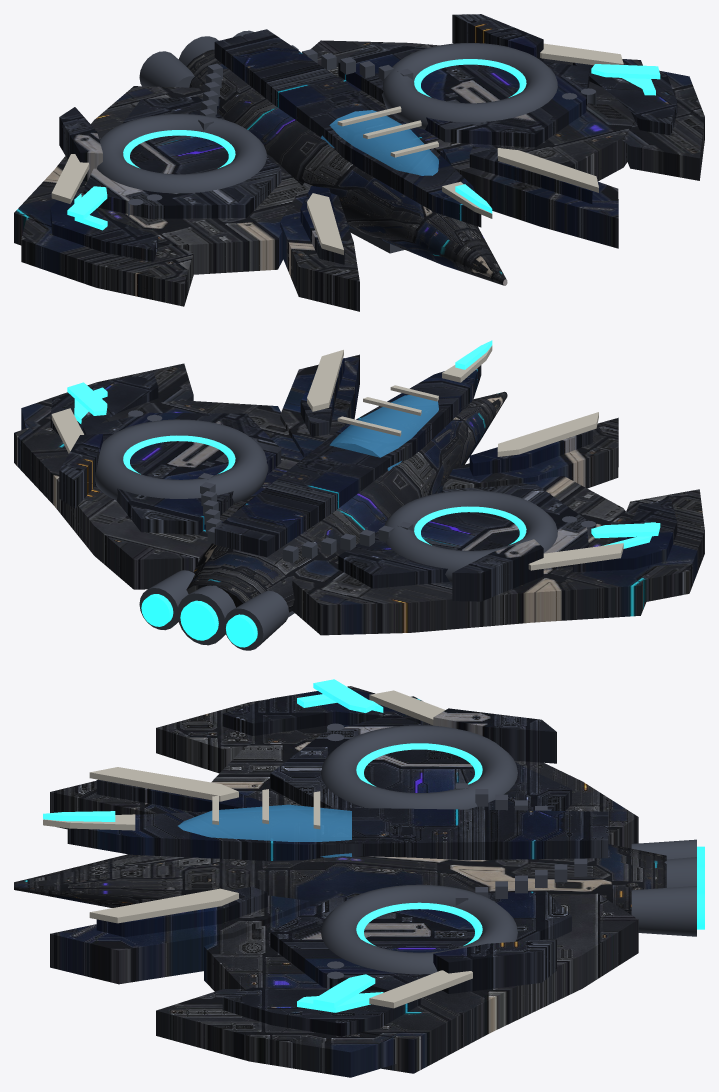
Rendered from aur-vanta-seraph.glb.
The picture shows the model from 3 angles, top to bottom: view 1: azimuth 30°, elevation 25°; view 2: azimuth 150°, elevation 25°; view 3: azimuth 270°, elevation 25°; orthographic projection. The views are drawn at different scales.
Visible parts, largest first — view 1: hull_primary, armor_secondary, mechanical_gunmetal, structure_ivory, accent_energy, canopy_glass; view 2: hull_primary, armor_secondary, mechanical_gunmetal, structure_ivory, accent_energy, canopy_glass, engine_glow; view 3: hull_primary, armor_secondary, mechanical_gunmetal, structure_ivory, accent_energy, canopy_glass, engine_glow.
Boxes of the visible parts, <box> form: hull_primary: <box>14,40,704,311</box>; armor_secondary: <box>50,14,677,264</box>; mechanical_gunmetal: <box>97,30,596,253</box>; structure_ivory: <box>51,43,623,254</box>; accent_energy: <box>67,59,660,230</box>; canopy_glass: <box>321,110,438,175</box>; hull_primary: <box>14,354,704,635</box>; armor_secondary: <box>50,358,677,601</box>; mechanical_gunmetal: <box>95,410,596,650</box>; structure_ivory: <box>51,345,623,570</box>; accent_energy: <box>67,340,660,548</box>; canopy_glass: <box>329,395,438,470</box>; engine_glow: <box>141,594,257,647</box>; hull_primary: <box>14,686,666,1077</box>; armor_secondary: <box>67,689,608,1036</box>; mechanical_gunmetal: <box>321,723,696,989</box>; structure_ivory: <box>43,690,472,1008</box>; accent_energy: <box>43,679,482,1012</box>; canopy_glass: <box>178,804,351,857</box>; engine_glow: <box>697,846,704,929</box>.
Bounding box in the file's own units: 7.44 × 1.2 × 5.93.
7 materials, 2 textured.
